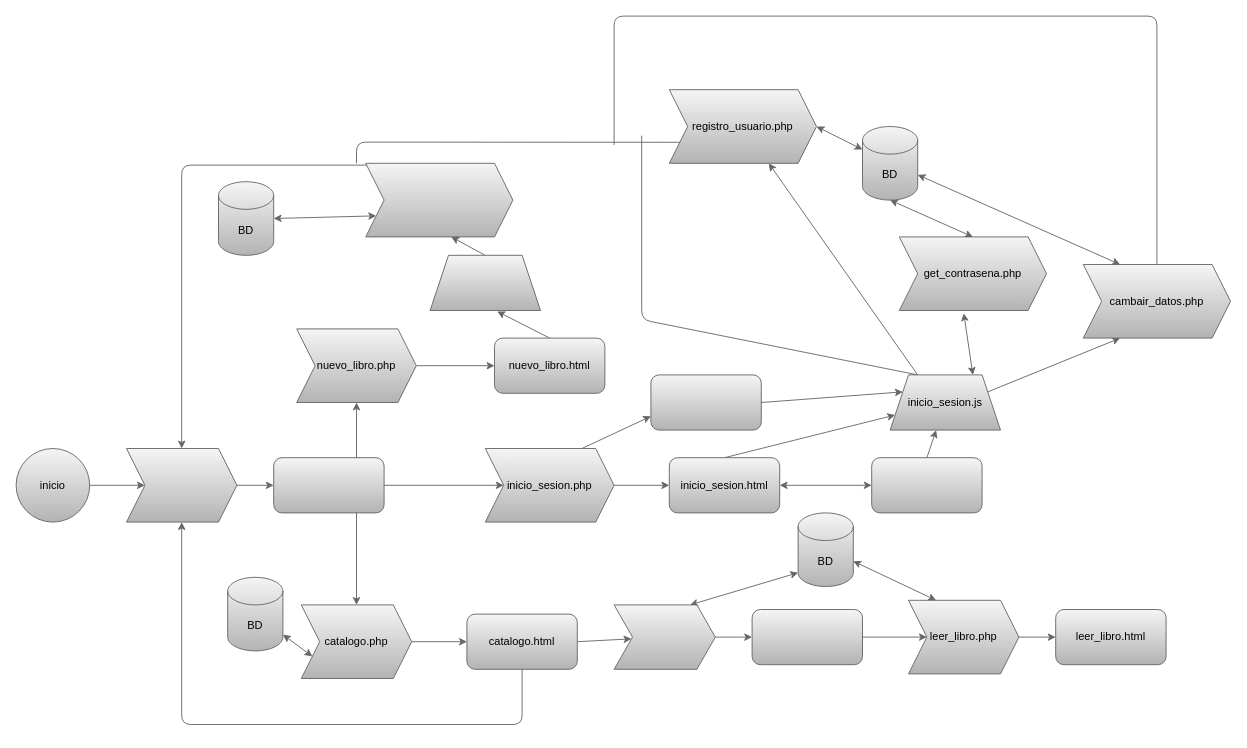
This 1247x748 diagram has some shape labels left out. Here are the shapes that lost their labels. From the top down, the centre of each, then its label:
At pixel 439 199: "publicar_libro.php".
At pixel 484 282: "nuevo_libro.js".
At pixel 705 402: "cambiar_datos.html".
At pixel 181 485: "Index.php".
At pixel 328 485: "index.html".
At pixel 926 485: "register.html".
At pixel 664 636: "libro.php".
At pixel 806 637: "pagina_libro.html".
